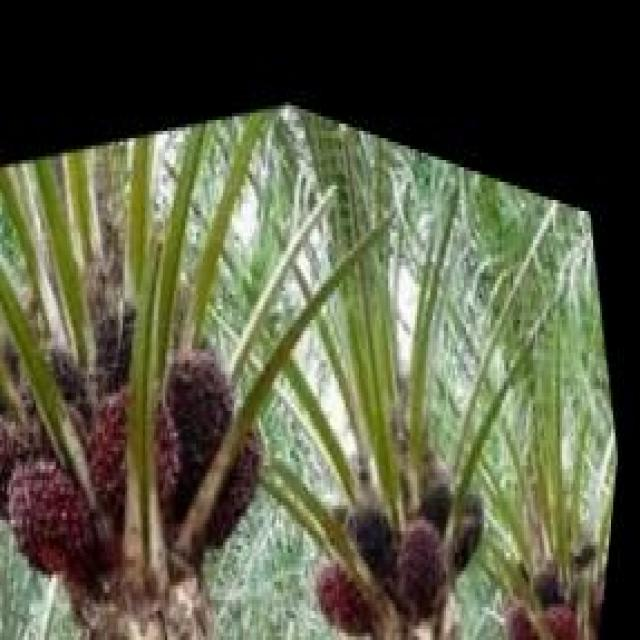Ripefruit: (0, 409, 118, 609), (85, 340, 203, 529), (312, 511, 386, 634), (0, 386, 49, 534), (506, 546, 551, 626), (550, 544, 596, 620)
